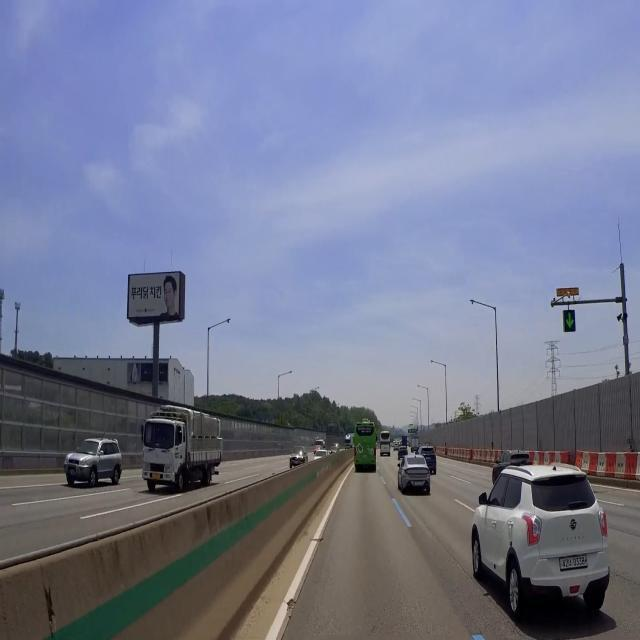car: (557, 552, 592, 573), (411, 478, 427, 490), (423, 453, 436, 466), (68, 463, 77, 481), (360, 450, 371, 464), (150, 472, 162, 484)
